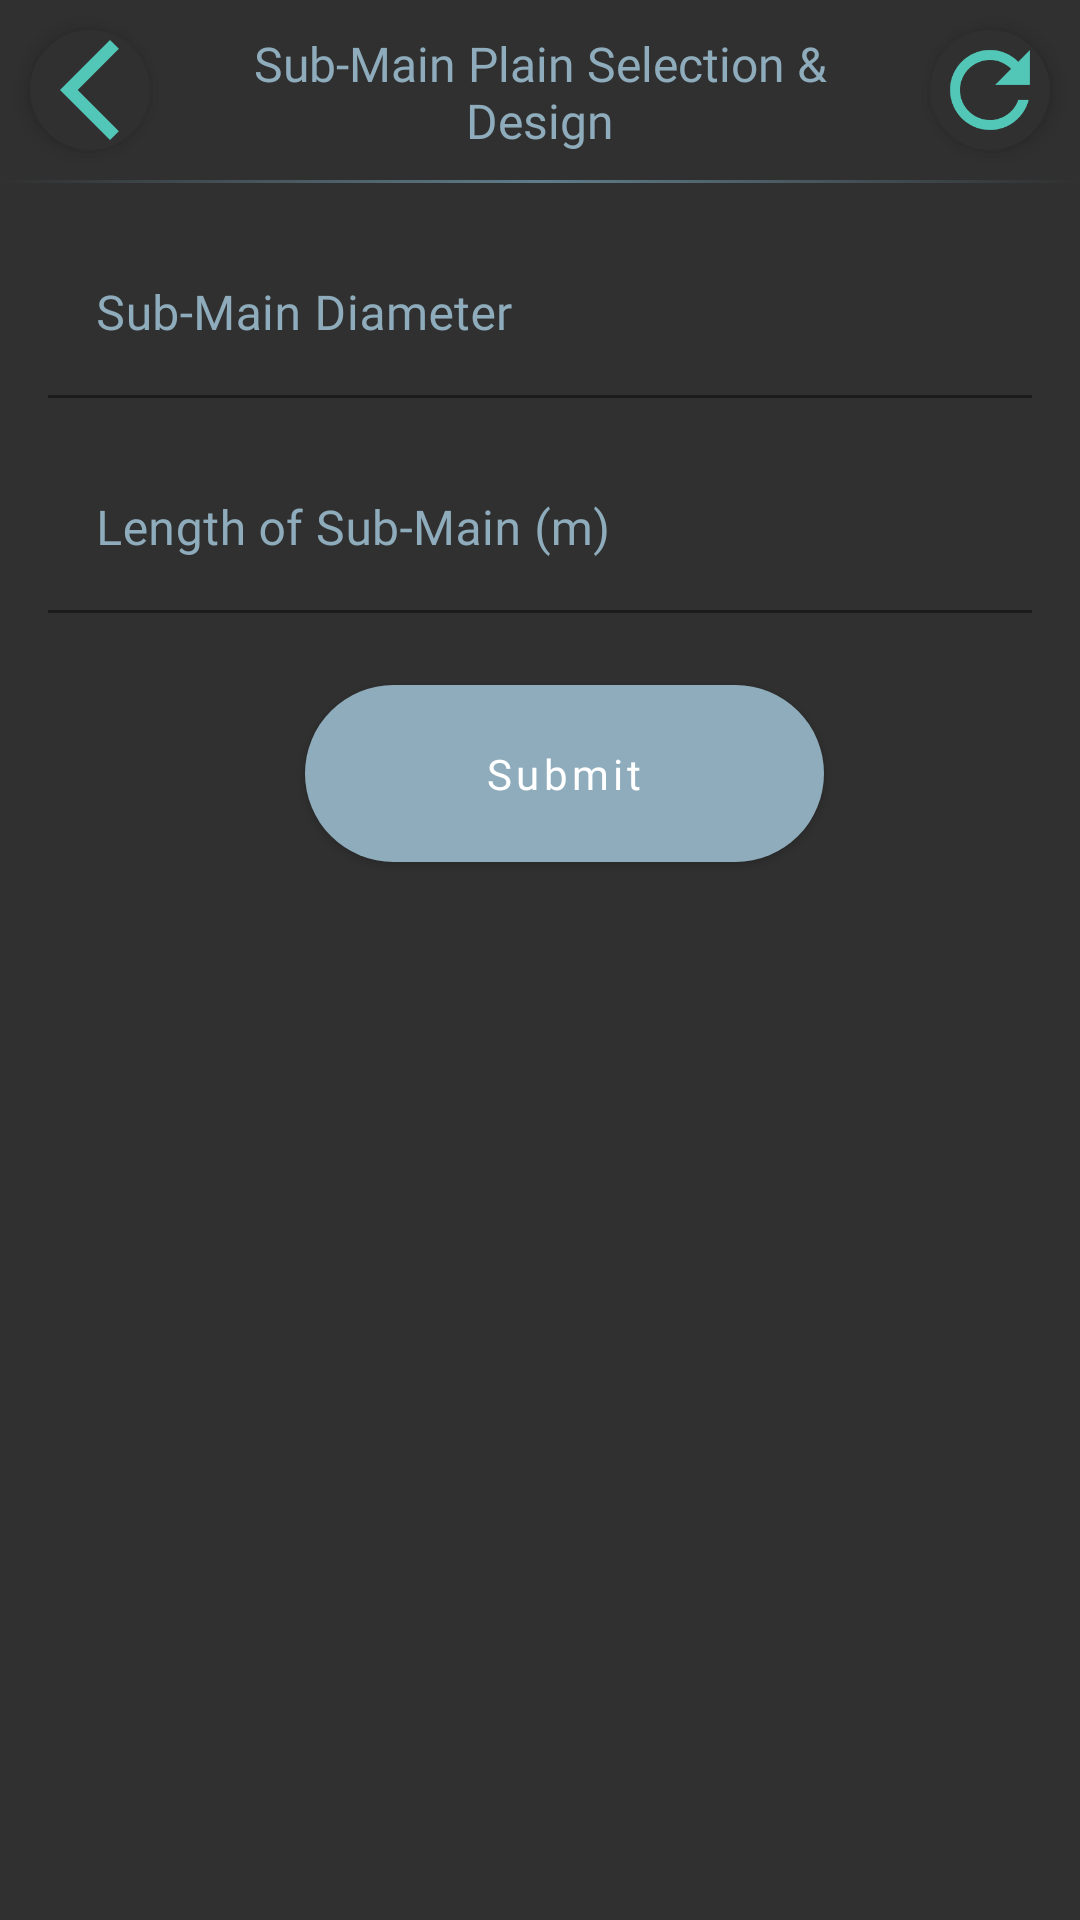

Icons on this 1080x1920 Android screen, each with its box as (x1, y1, x2, y2):
Back: (60, 40, 119, 140)
Reset: (950, 50, 1030, 130)
